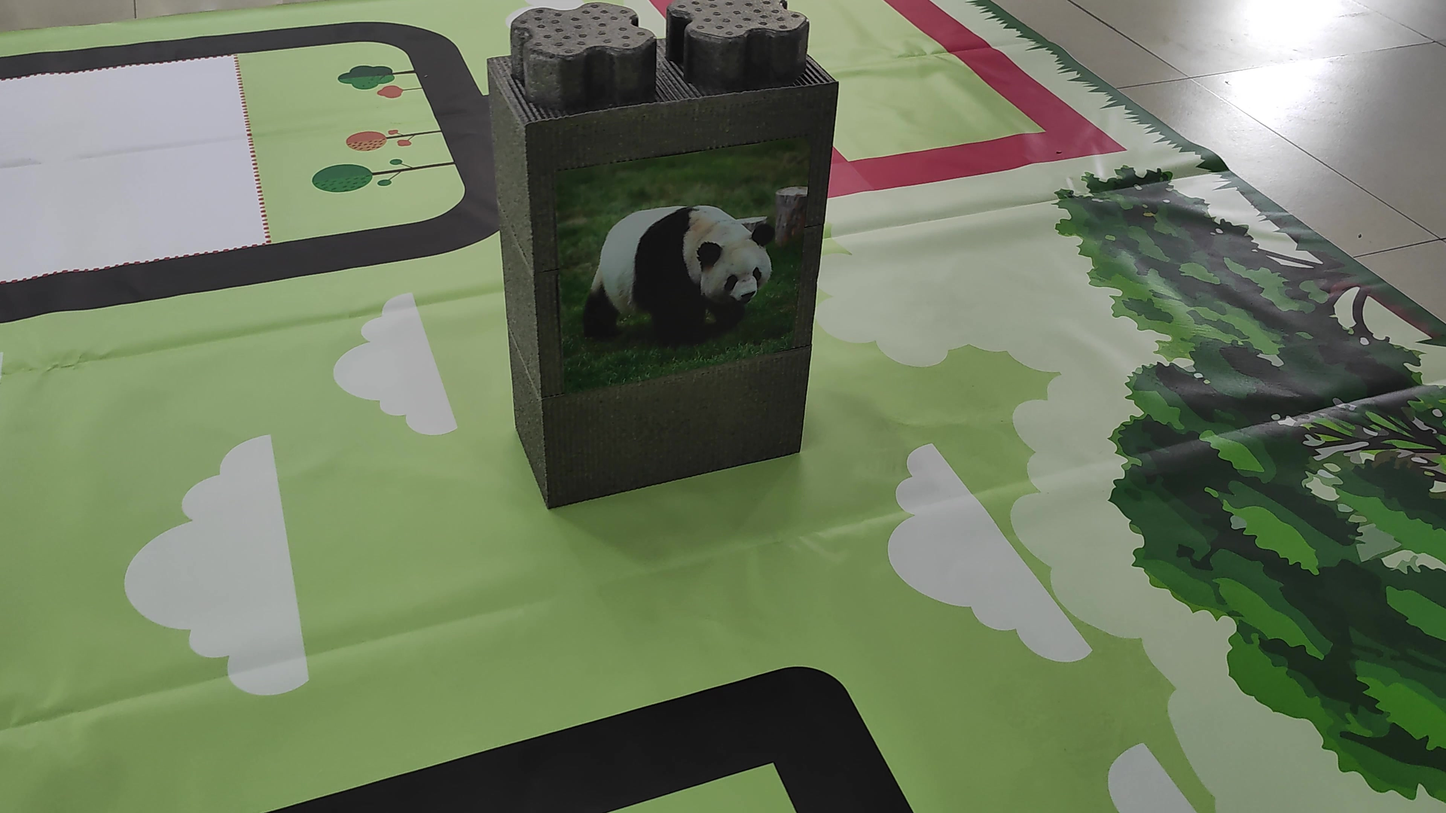panda: (561, 169, 805, 373)
